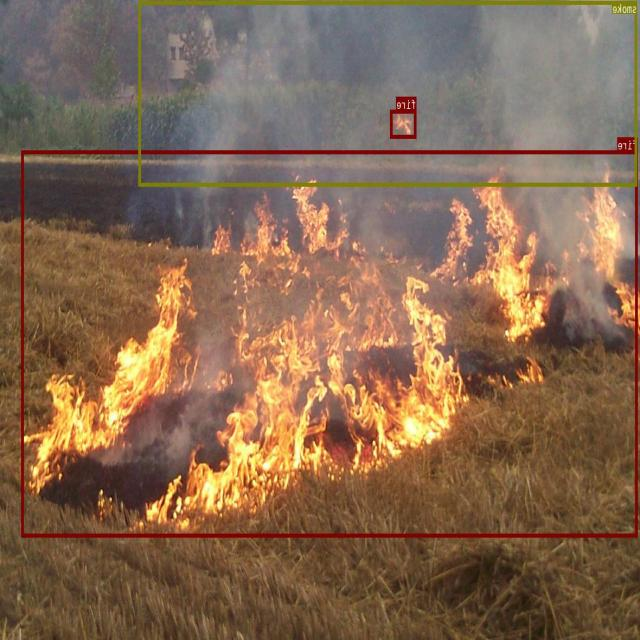fire: (22, 150, 638, 537), (391, 109, 416, 138)
smoke: (139, 1, 637, 186)
